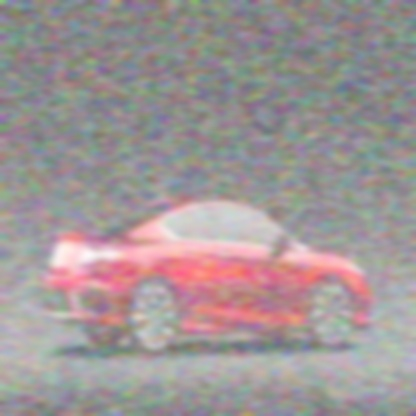Vehicle: (46, 191, 372, 355)
